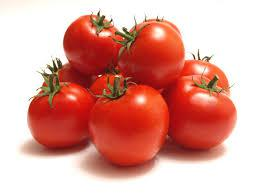tomato: (88, 83, 169, 166), (165, 75, 237, 152), (25, 82, 93, 153), (118, 22, 184, 87), (62, 13, 122, 76), (179, 56, 232, 93), (47, 62, 87, 91)
